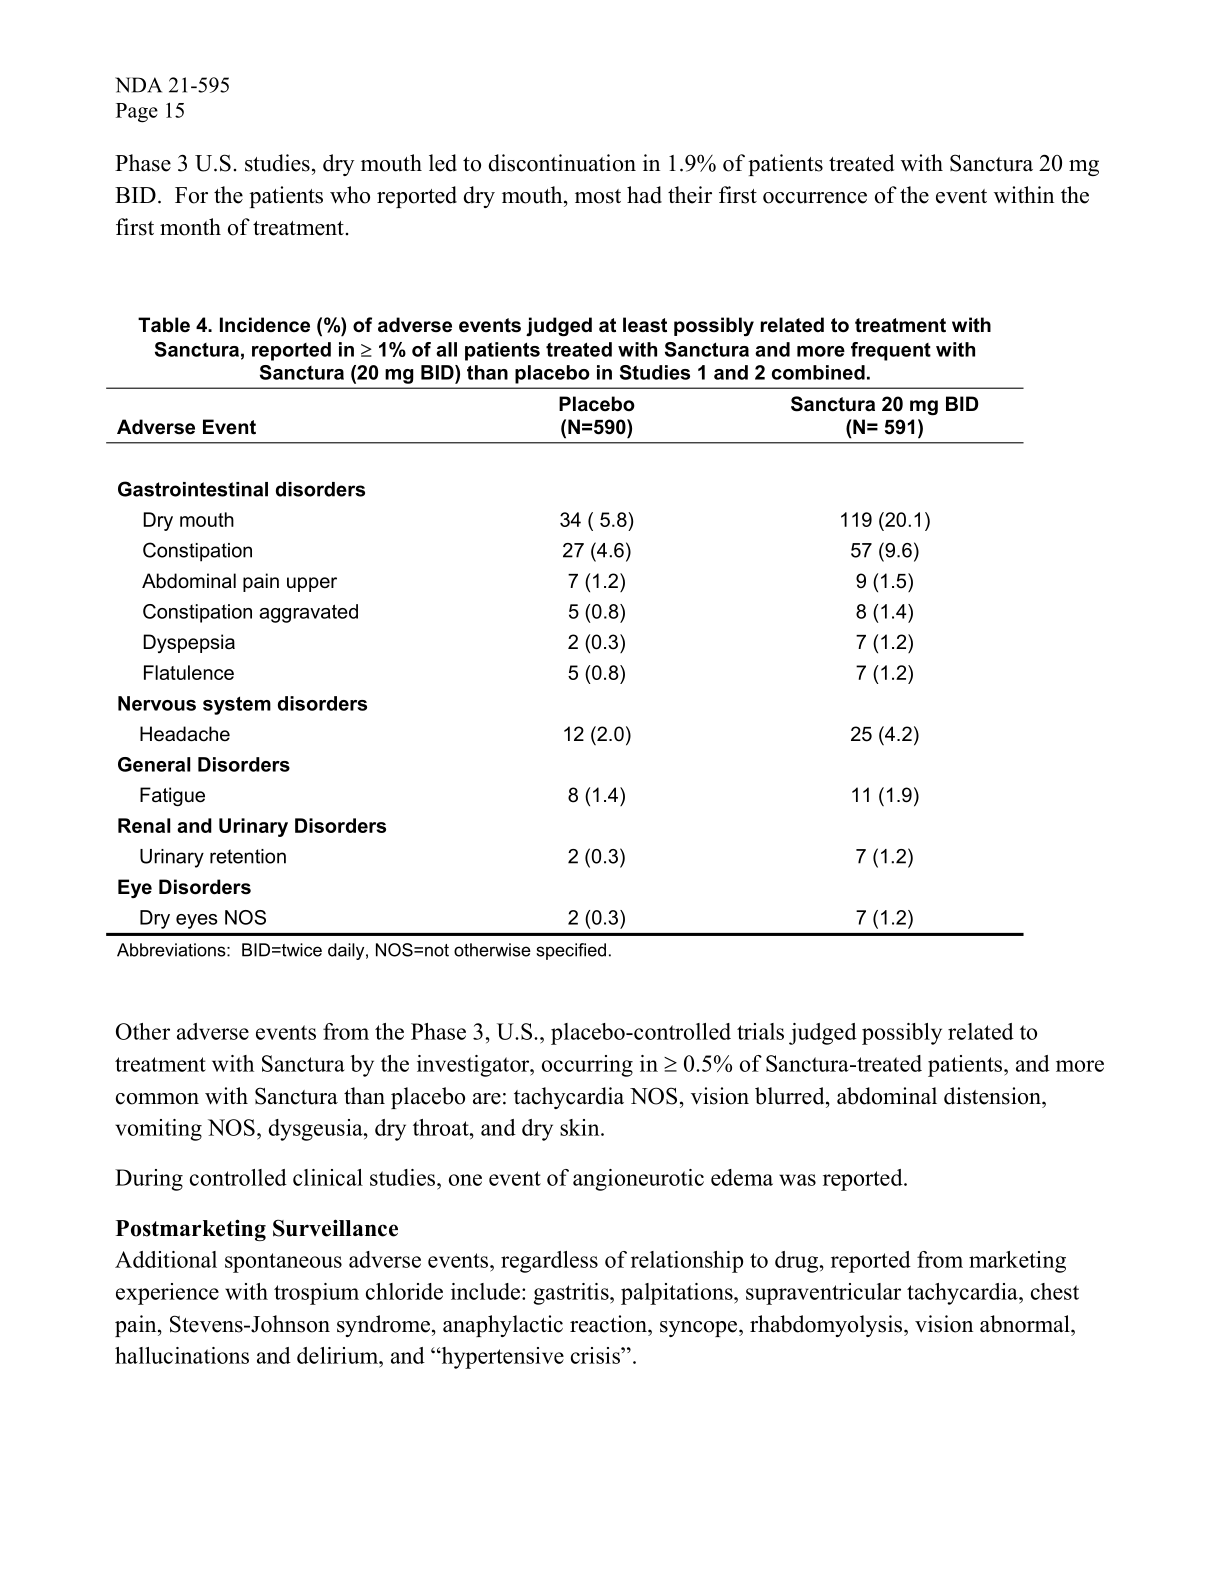partial_lined: (102, 384, 1026, 939)
